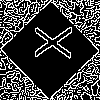X: (25, 25, 72, 60)
